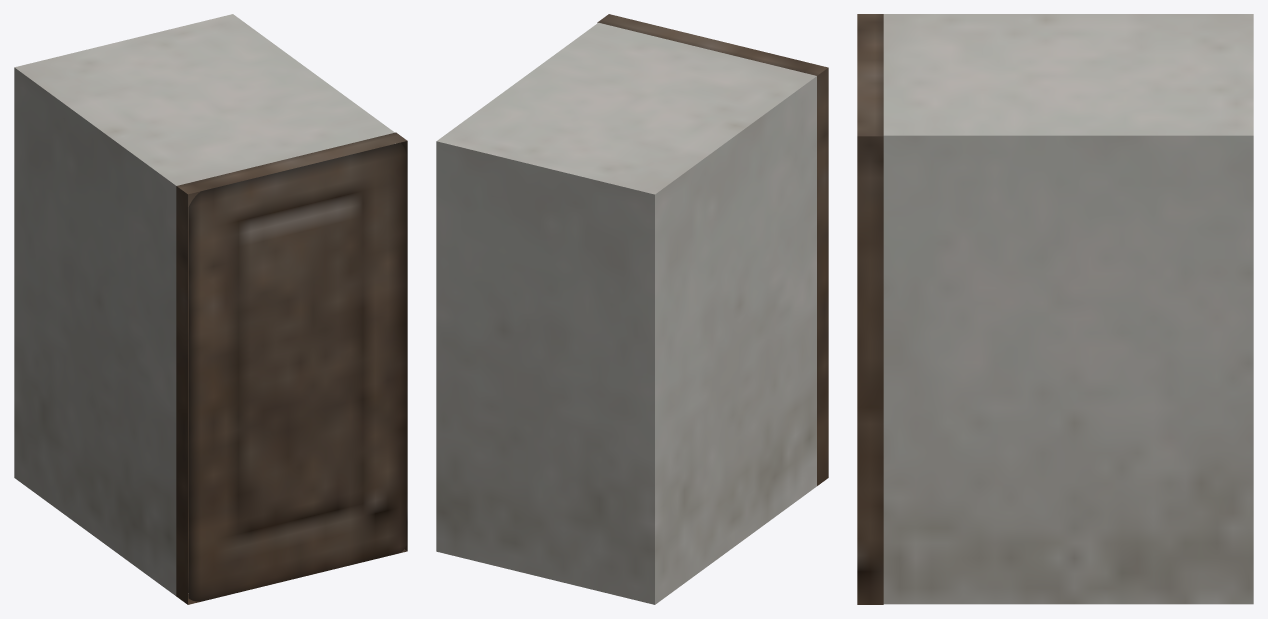
File: SM_EC_House_Kitchen_Cupboard_Static_03.fbx
The picture shows the model from 3 angles, left to right: view 1: azimuth 30°, elevation 25°; view 2: azimuth 150°, elevation 25°; view 3: azimuth 270°, elevation 25°; orthographic projection. The views are drawn at different scales.
Parts seen in each view (by area): view 1: SM_EC_House_Kitchen_Cupboard_Static_03; view 2: SM_EC_House_Kitchen_Cupboard_Static_03; view 3: SM_EC_House_Kitchen_Cupboard_Static_03.
Boxes of the visible parts, x1=… form: SM_EC_House_Kitchen_Cupboard_Static_03: x1=14, y1=14, x2=407, y2=604; SM_EC_House_Kitchen_Cupboard_Static_03: x1=436, y1=14, x2=828, y2=604; SM_EC_House_Kitchen_Cupboard_Static_03: x1=857, y1=14, x2=1253, y2=604.
Bounding box in the file's own units: 0.5512 × 0.7546 × 0.9845.
